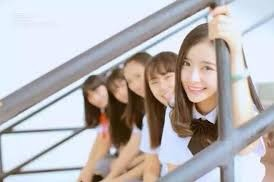people: (175, 22, 230, 163), (76, 71, 106, 180), (146, 52, 178, 144), (126, 53, 152, 124), (109, 69, 130, 154)
